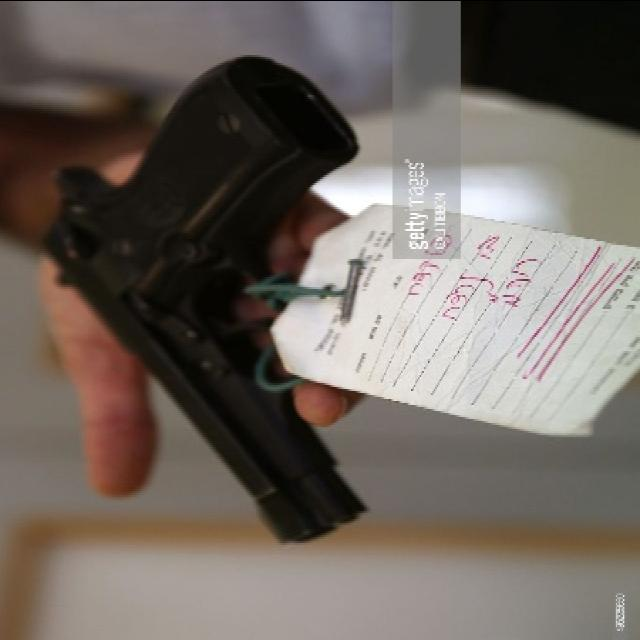handgun: (34, 53, 372, 549)
